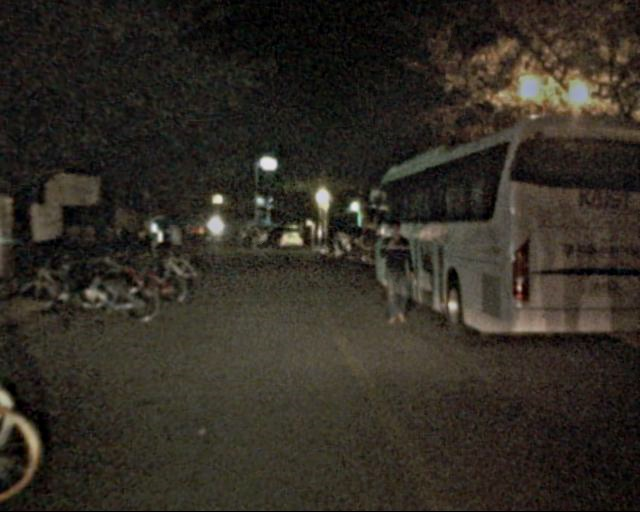person: (372, 220, 418, 333), (159, 213, 187, 279)
